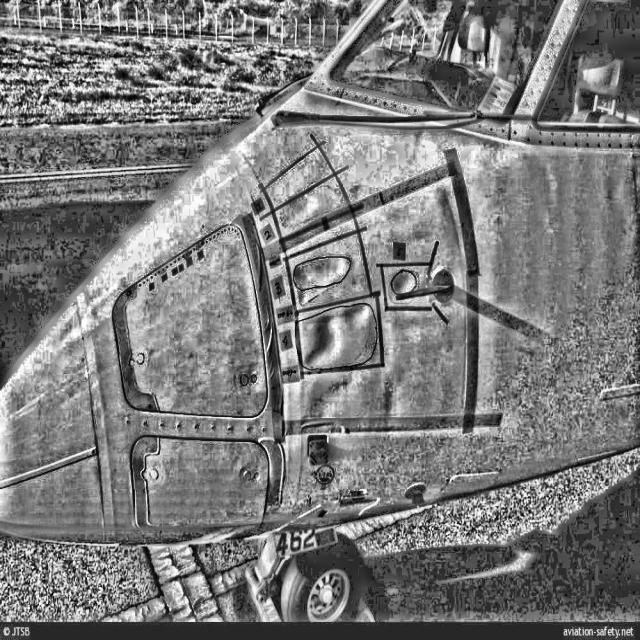dent: (295, 257, 346, 305), (309, 315, 338, 366), (342, 305, 373, 333), (393, 273, 414, 291)
